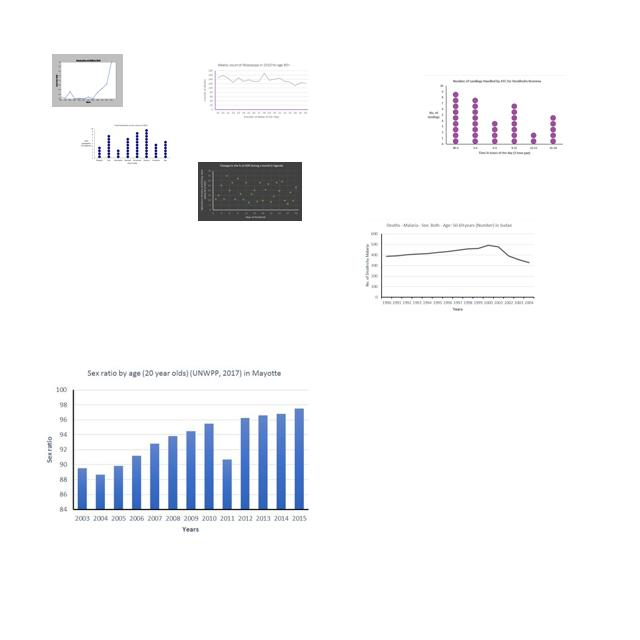Graph: (40, 366, 315, 536), (362, 219, 537, 316), (423, 75, 566, 159), (203, 62, 309, 120), (198, 162, 302, 221), (52, 54, 123, 107), (81, 124, 171, 165)
